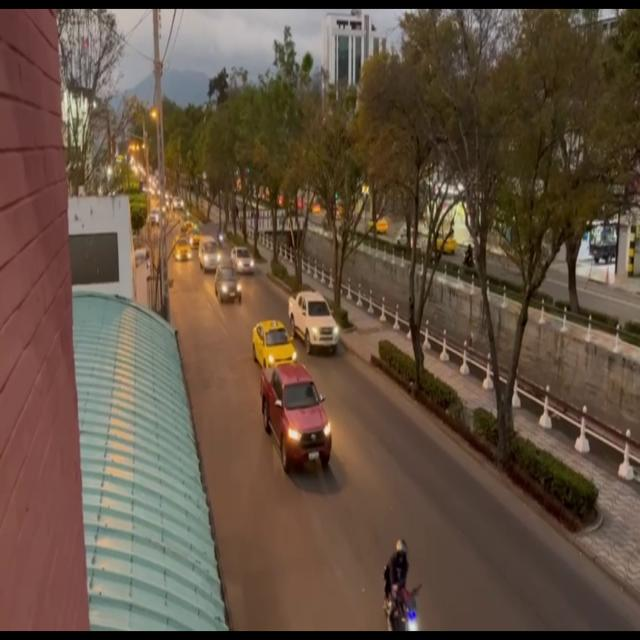CMT: (261, 362, 332, 468), (291, 292, 343, 355)
MOTORCYCLE: (384, 547, 424, 634)
SED: (253, 321, 298, 366), (215, 266, 241, 304), (233, 248, 257, 276), (174, 238, 192, 262)
